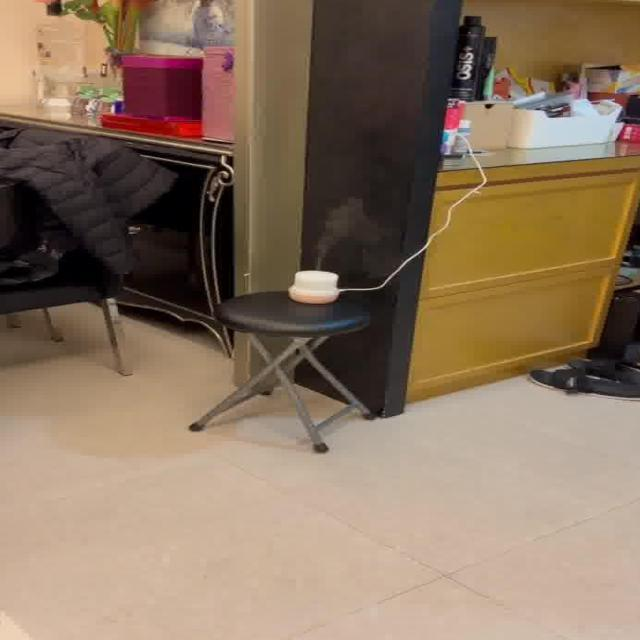fire: (308, 196, 378, 269)
